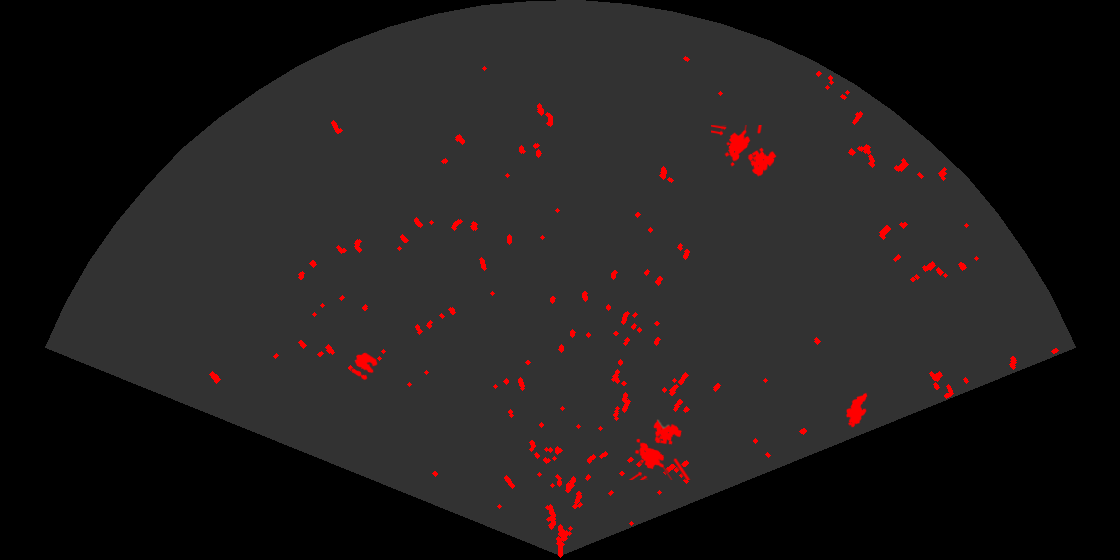AUV: (844, 391, 869, 429)
ball: (350, 351, 379, 382)
cage: (627, 418, 692, 480), (711, 125, 778, 178)
